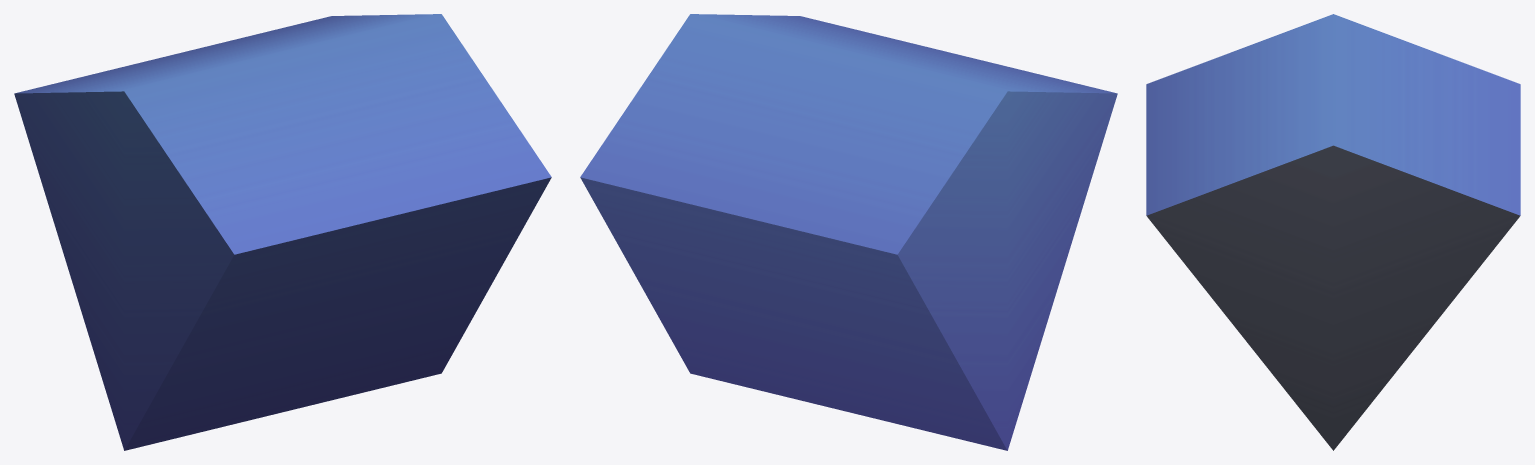
File: target-fragment-small.glb
3 renders of one model, left to right at view 1: azimuth 30°, elevation 25°; view 2: azimuth 150°, elevation 25°; view 3: azimuth 270°, elevation 25°, orthographic. The views are drawn at different scales.
Parts seen in each view (by area): view 1: target-fragment-small; view 2: target-fragment-small; view 3: target-fragment-small.
Boxes of the visible parts, x1,y1,x2,y2 form: target-fragment-small: (14,14,551,450); target-fragment-small: (580,14,1117,450); target-fragment-small: (1146,14,1520,450).
Size of the model in its own units: 0.05 by 0.0541 by 0.0601.
1 material, 1 textured.
